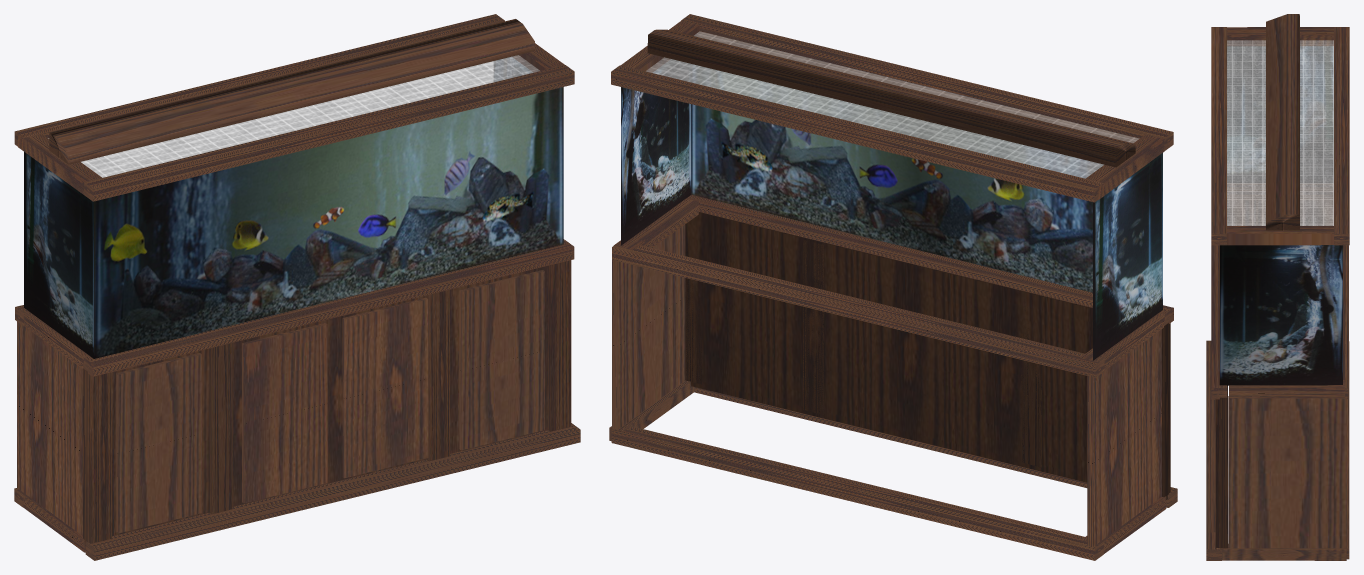
Rendered from Fish Tank.obj.
The picture shows the model from 3 angles, left to right: view 1: azimuth 30°, elevation 25°; view 2: azimuth 150°, elevation 25°; view 3: azimuth 270°, elevation 25°; orthographic projection. The views are drawn at different scales.
Parts seen in each view (by area): view 1: fishtank; view 2: fishtank; view 3: fishtank.
Part boxes in pixels (box(x1,y1,x2,y2)): fishtank: box(14, 14, 580, 560); fishtank: box(609, 14, 1177, 560); fishtank: box(1206, 14, 1349, 560).
Size of the model in its own units: 67.93 by 51.74 by 19.68.
